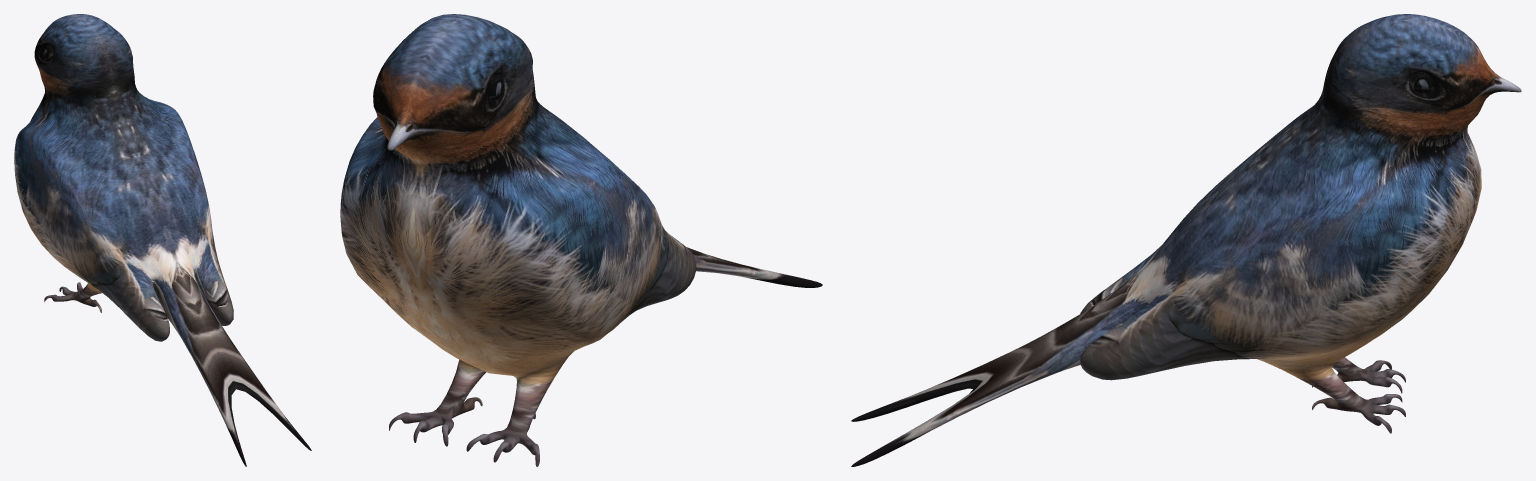
File: bird.glb
The picture shows the model from 3 angles, left to right: view 1: azimuth 30°, elevation 25°; view 2: azimuth 150°, elevation 25°; view 3: azimuth 270°, elevation 25°; orthographic projection. The views are drawn at different scales.
Parts seen in each view (by area): view 1: Cube_0; view 2: Cube_0; view 3: Cube_0.
Boxes of the visible parts, left/top/right/bottom form: Cube_0: left=14, top=14, right=311, bottom=466; Cube_0: left=340, top=14, right=822, bottom=466; Cube_0: left=851, top=14, right=1521, bottom=466.
Bounding box in the file's own units: 1.17 × 2.22 × 3.18.
Materials: 1 (1 with a texture image).
